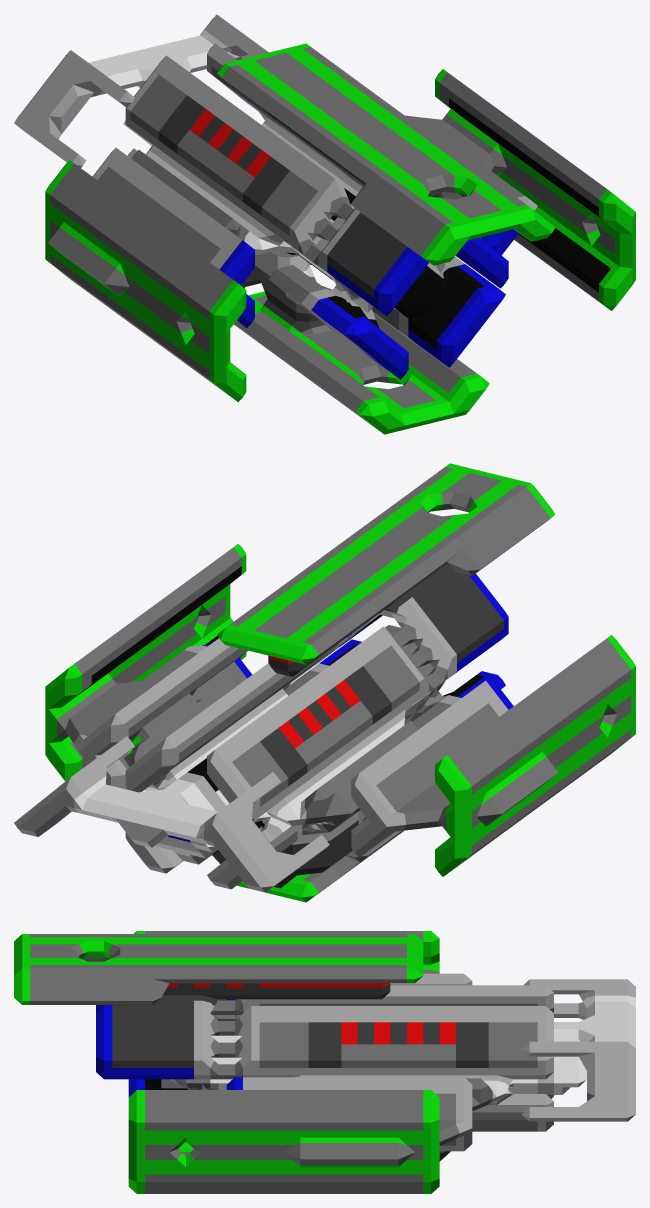
Rendered from ship_engineer_cruiser_specialist.fbx.
3 views of the same model, one above another, from view 1: azimuth 30°, elevation 25°; view 2: azimuth 150°, elevation 25°; view 3: azimuth 270°, elevation 25° (orthographic). The views are drawn at different scales.
Visible parts, largest first — view 1: ship_engineer_cruiser_specialist.mc; view 2: ship_engineer_cruiser_specialist.mc; view 3: ship_engineer_cruiser_specialist.mc.
Boxes of the visible parts, <box> form: ship_engineer_cruiser_specialist.mc: <box>14,14,635,434</box>; ship_engineer_cruiser_specialist.mc: <box>14,463,635,902</box>; ship_engineer_cruiser_specialist.mc: <box>14,931,635,1193</box>.
Size of the model in its own units: 2800 by 1500 by 3800.
